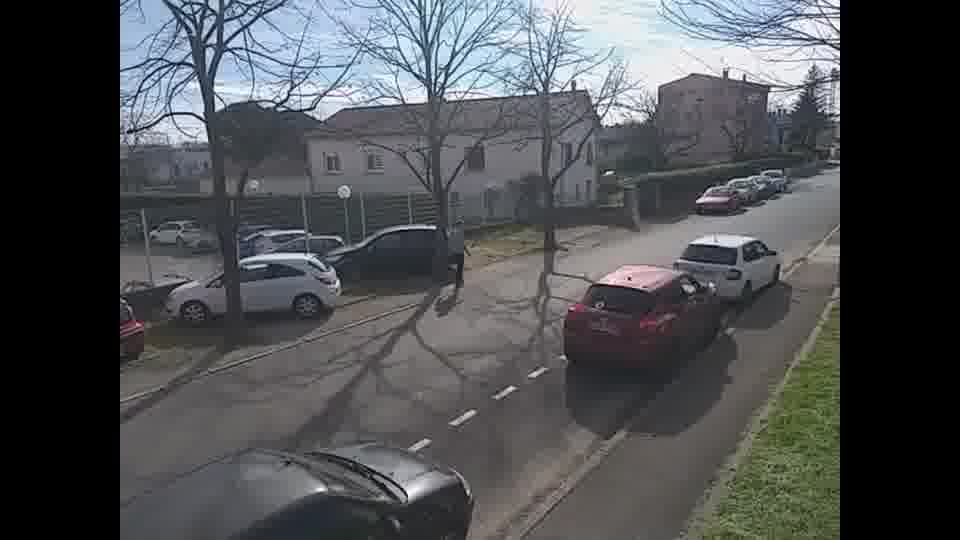jugador: (443, 215, 473, 292)
